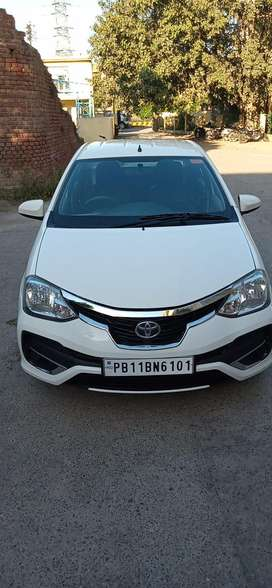PB11BN6101: (102, 356, 193, 377)
